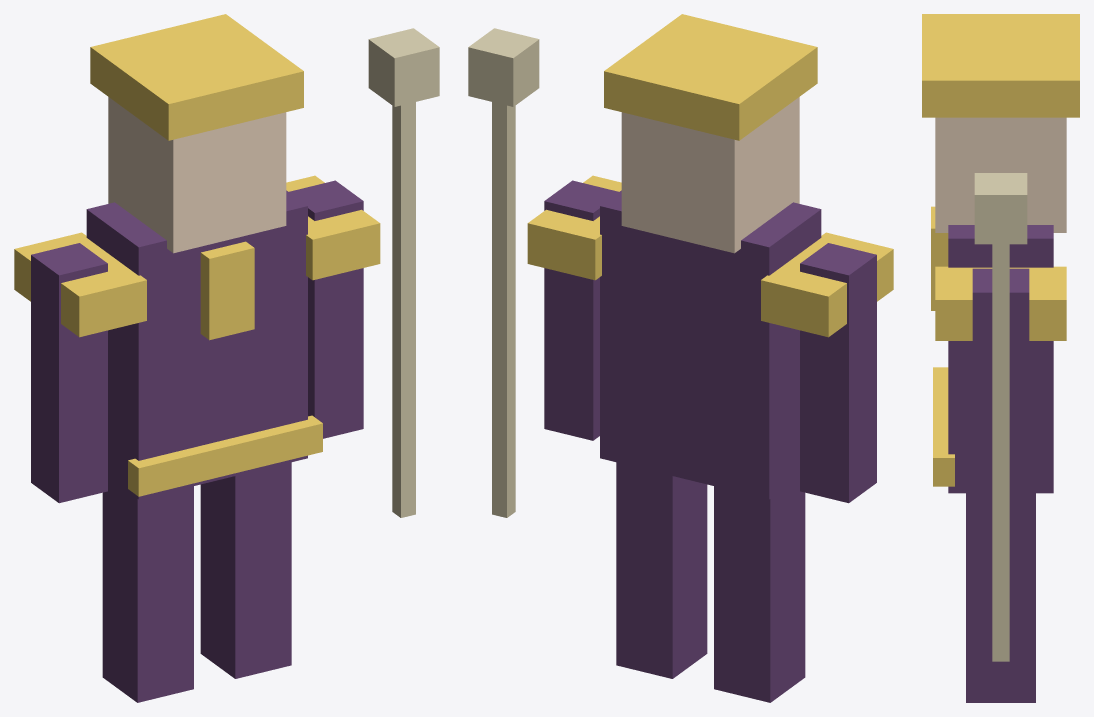
Rendered from 11_kiva_holloway_navigator_under_toll.glb.
3 views of the same model, side by side, from view 1: azimuth 30°, elevation 25°; view 2: azimuth 150°, elevation 25°; view 3: azimuth 270°, elevation 25° (orthographic).
Parts seen in each view (by area): view 1: Kiva Holloway, Navigator under Toll; view 2: Kiva Holloway, Navigator under Toll; view 3: Kiva Holloway, Navigator under Toll.
Boxes of the visible parts, bbox=[...] form: Kiva Holloway, Navigator under Toll: bbox=[14, 14, 439, 702]; Kiva Holloway, Navigator under Toll: bbox=[468, 14, 893, 702]; Kiva Holloway, Navigator under Toll: bbox=[922, 14, 1079, 702].
Size of the model in its own units: 1.04 by 1.6 by 0.3695.
